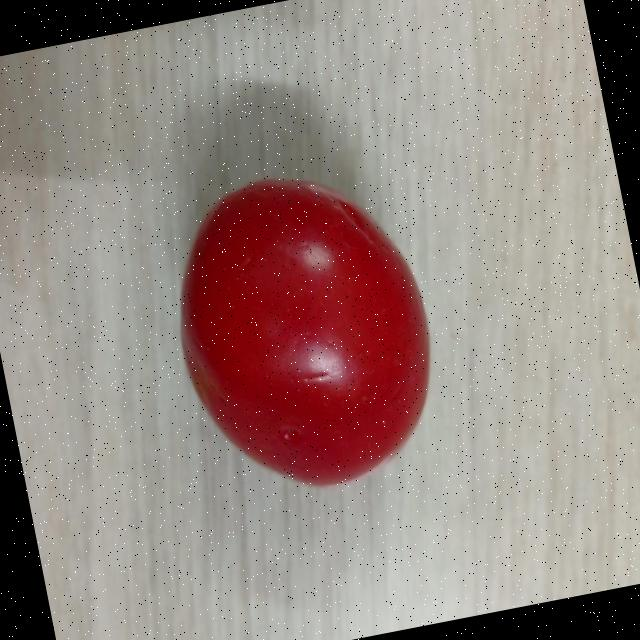Ripe: (147, 145, 460, 512)
